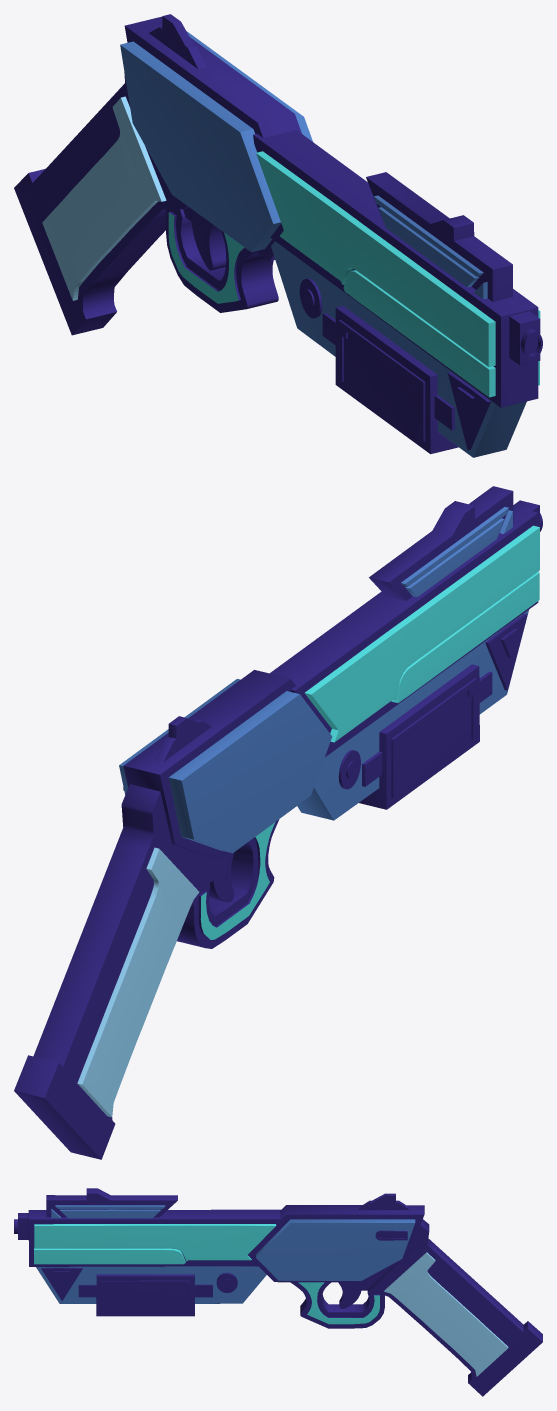
File: upload.fbx
3 views of the same model, one above another, from view 1: azimuth 30°, elevation 25°; view 2: azimuth 150°, elevation 25°; view 3: azimuth 270°, elevation 25° (orthographic). The views are drawn at different scales.
Parts seen in each view (by area): view 1: Cube; view 2: Cube; view 3: Cube.
Boxes of the visible parts, x1,y1,x2,y2 form: Cube: (14, 14, 542, 457); Cube: (14, 486, 542, 1159); Cube: (14, 1188, 542, 1396).
Bounding box in the file's own units: 31.18 × 172 × 411.
